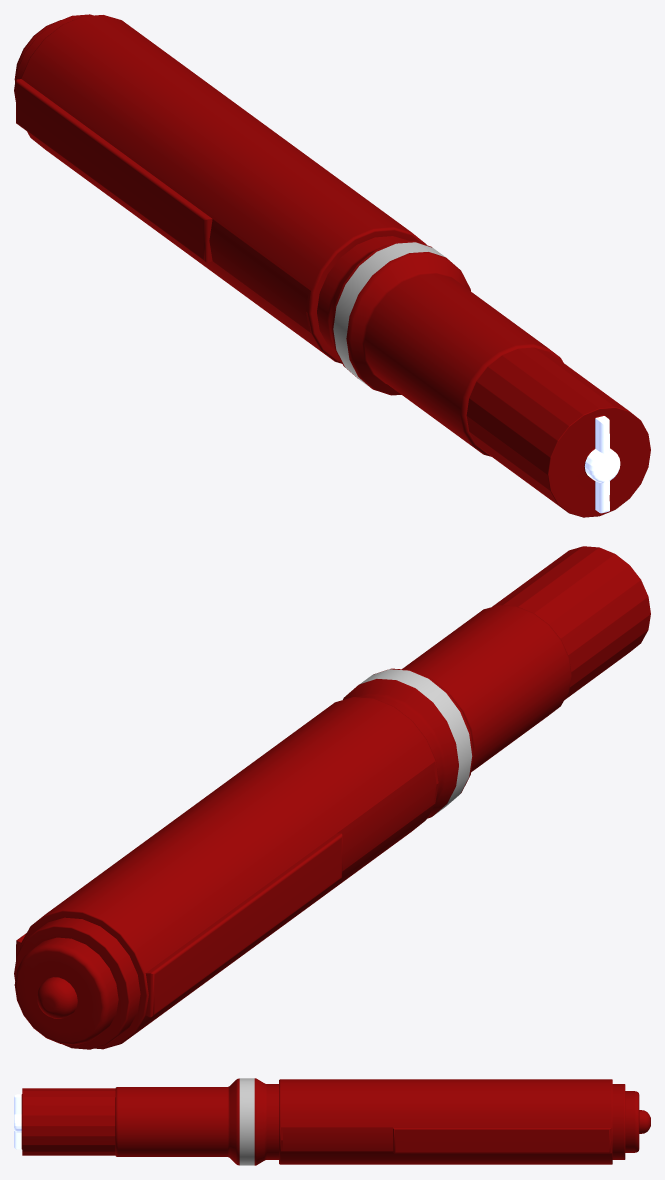
File: KEY for table.fbx
3 views of the same model, one above another, from view 1: azimuth 30°, elevation 25°; view 2: azimuth 150°, elevation 25°; view 3: azimuth 270°, elevation 25° (orthographic). The views are drawn at different scales.
Visible parts, largest first — view 1: body, pattern; view 2: body, pattern; view 3: body, pattern.
Part boxes in pixels (x1,y1,x2,y2): body: (14, 14, 563, 456); pattern: (466, 347, 650, 517); body: (14, 605, 571, 1049); pattern: (492, 546, 650, 699); body: (115, 1078, 650, 1165); pattern: (14, 1088, 115, 1155).
Bounding box in the file's own units: 0.1896 × 0.1843 × 1.33.
